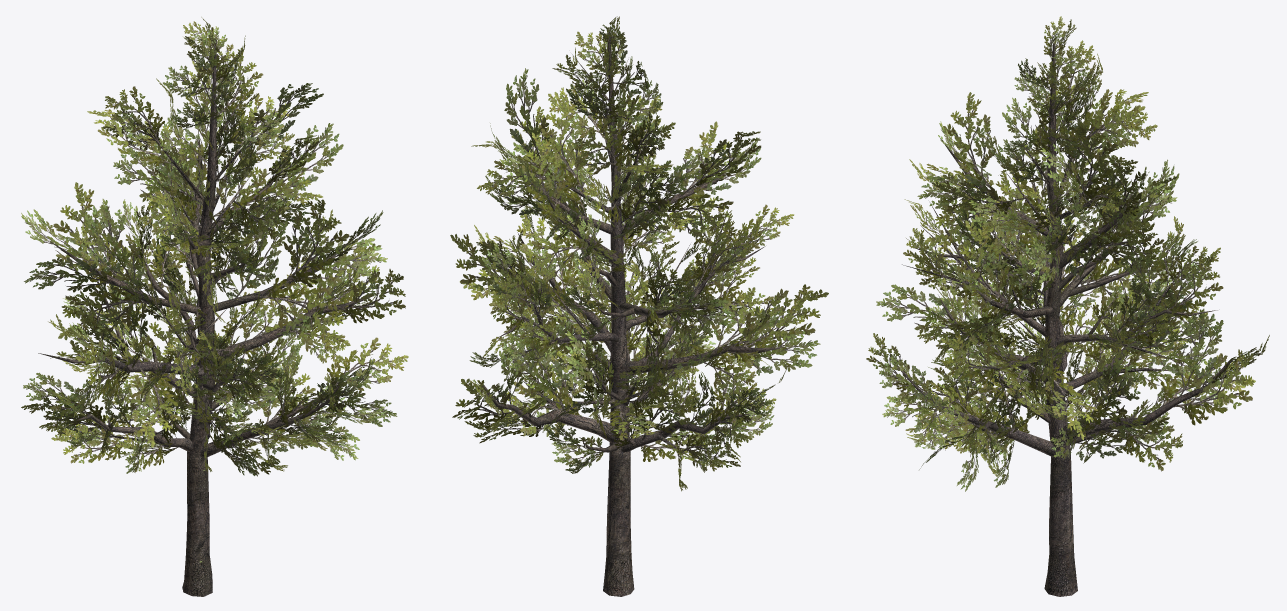
The picture shows the model from 3 angles, left to right: view 1: azimuth 30°, elevation 25°; view 2: azimuth 150°, elevation 25°; view 3: azimuth 270°, elevation 25°; orthographic projection.
Parts seen in each view (by area): view 1: COM_Nature_TreeA_MotionGreenTree01_SM02; view 2: COM_Nature_TreeA_MotionGreenTree01_SM02; view 3: COM_Nature_TreeA_MotionGreenTree01_SM02.
Part boxes in pixels (left/top/right/bottom): COM_Nature_TreeA_MotionGreenTree01_SM02: left=21, top=17, right=408, bottom=596; COM_Nature_TreeA_MotionGreenTree01_SM02: left=450, top=16, right=828, bottom=596; COM_Nature_TreeA_MotionGreenTree01_SM02: left=866, top=16, right=1269, bottom=596.
Size of the model in its own units: 327 by 505 by 327.
2 materials, 2 textured.
